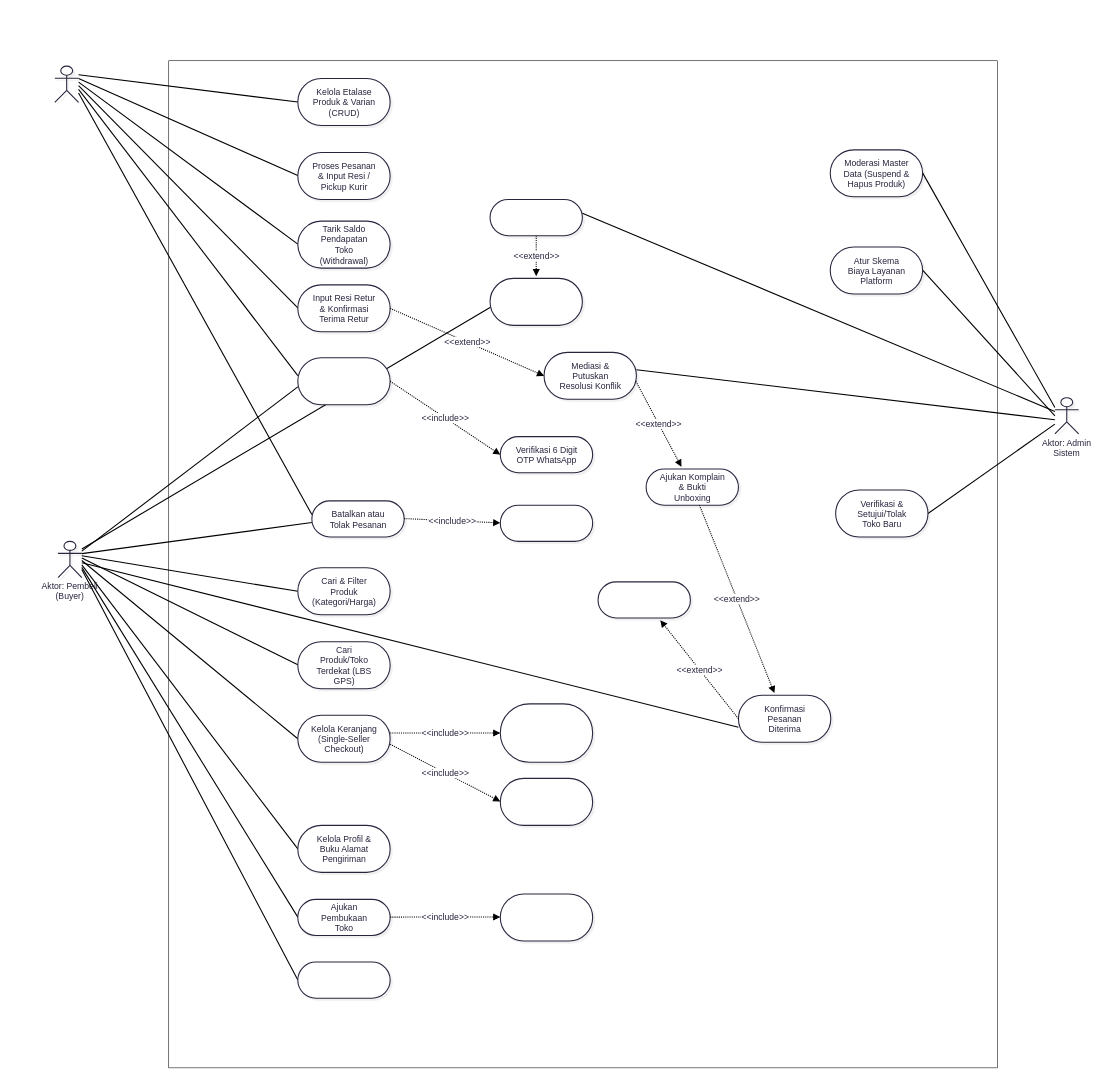
The diagram is 1109 pixels wide and 1077 high, and some of its shapes have lost their labels. Here are the shapes that lost their labels. From the top down, the centre of each, then its label:
the point at 67,85: Aktor: Penjual UMKM (Seller)
the point at 537,218: Tangani Eskalasi Live Chat
the point at 537,303: Tanya Bantuan AI & Lacak Pesanan
the point at 345,382: Login Google OAuth & Beralih Mode
the point at 547,524: Proses Refund Dana Otomatis
the point at 645,600: Beri Rating & Ulasan Produk
the point at 547,734: Bayar Pesanan via Payment Gateway (Escrow)
the point at 547,803: Pilih Kurir & Hitung Ongkir Otomatis
the point at 547,918: Upload KYC & Validasi GPS Sarbagita
the point at 345,981: Tarik Saldo Refund Pembeli
